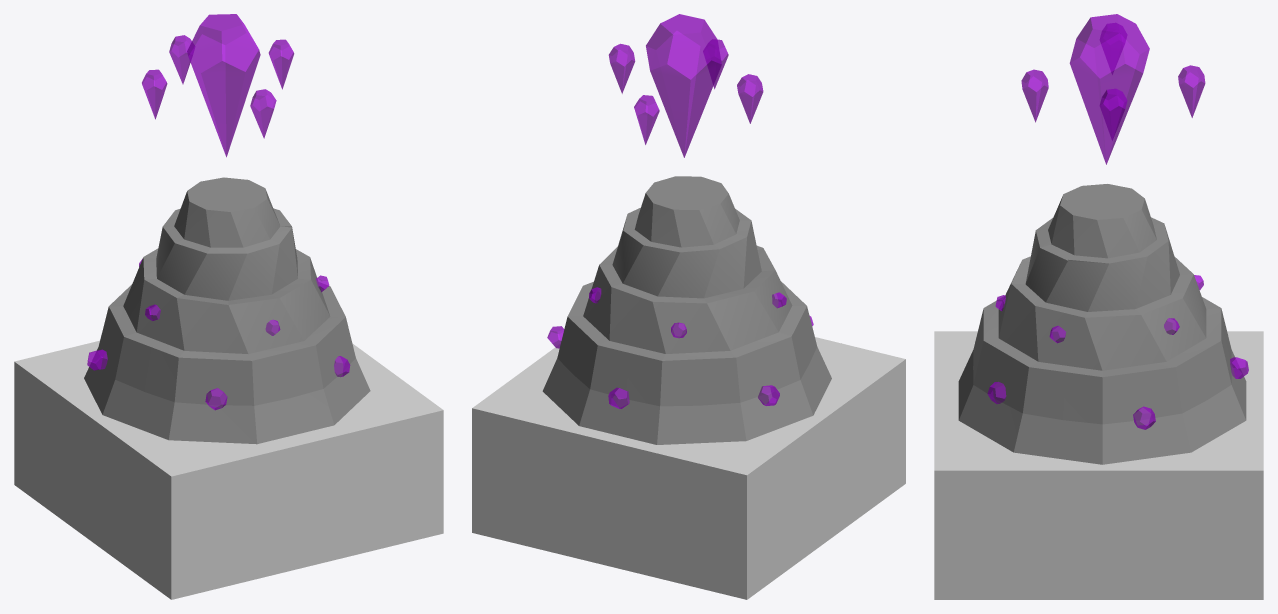
File: MagicTowerLvl2.fbx
The picture shows the model from 3 angles, left to right: view 1: azimuth 30°, elevation 25°; view 2: azimuth 150°, elevation 25°; view 3: azimuth 270°, elevation 25°; orthographic projection. The views are drawn at different scales.
Parts seen in each view (by area): view 1: TowerBase, MagicTowerBase2, ShootingGem, Gem1, Gem7, Gem8, Gem9; view 2: TowerBase, MagicTowerBase2, ShootingGem, Gem8, Gem9, Gem7, Gem1; view 3: MagicTowerBase2, TowerBase, ShootingGem, Gem7, Gem1, Gem8, Gem9.
Boxes of the visible parts, x1,y1,x2,y2 form: TowerBase: [14, 340, 443, 599]; MagicTowerBase2: [84, 177, 370, 444]; ShootingGem: [187, 14, 260, 157]; Gem1: [250, 89, 276, 138]; Gem7: [169, 35, 194, 84]; Gem8: [268, 39, 294, 89]; Gem9: [142, 69, 167, 119]; TowerBase: [472, 337, 905, 599]; MagicTowerBase2: [542, 176, 831, 444]; ShootingGem: [646, 14, 721, 157]; Gem8: [608, 43, 635, 93]; Gem9: [737, 74, 763, 123]; Gem7: [634, 95, 659, 144]; Gem1: [703, 39, 728, 89]; MagicTowerBase2: [958, 184, 1248, 464]; TowerBase: [934, 331, 1263, 599]; ShootingGem: [1069, 14, 1149, 164]; Gem7: [1178, 65, 1205, 117]; Gem1: [1021, 69, 1048, 122]; Gem8: [1099, 88, 1127, 140]; Gem9: [1100, 23, 1126, 73].
Bounding box in the file's own units: 4 × 6.8 × 4.
